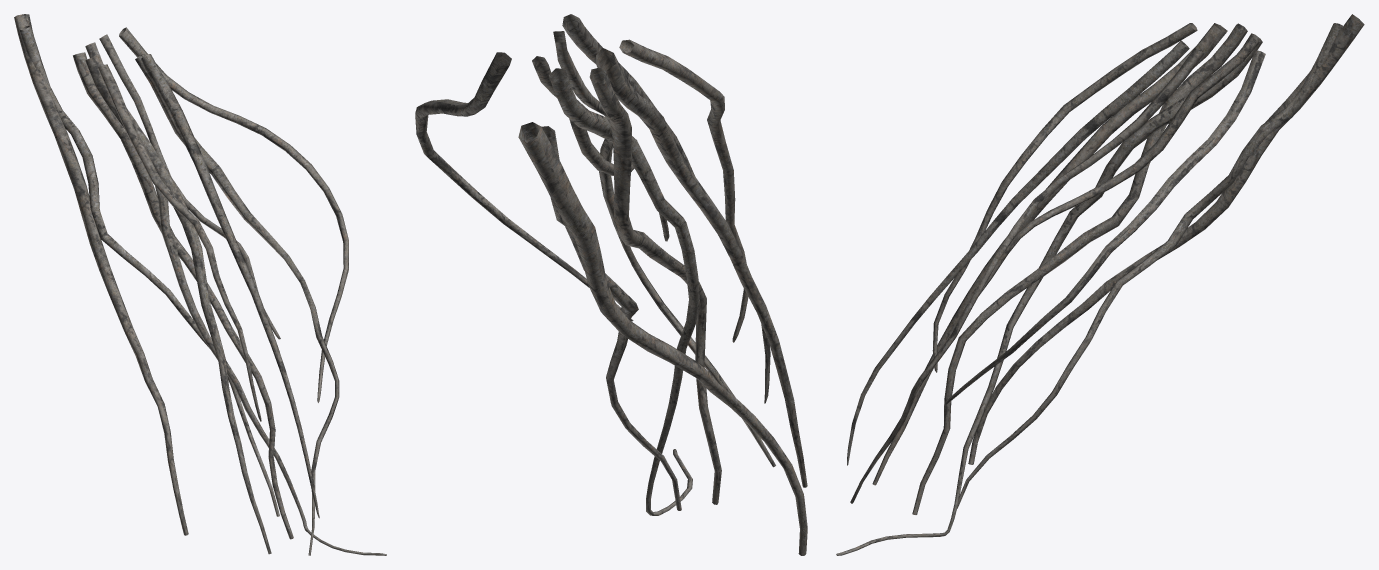
The model's file is tree01_01.fbx.
3 views of the same model, side by side, from view 1: azimuth 30°, elevation 25°; view 2: azimuth 150°, elevation 25°; view 3: azimuth 270°, elevation 25° (orthographic). The views are drawn at different scales.
Parts seen in each view (by area): view 1: tree01_01; view 2: tree01_01; view 3: tree01_01.
Part boxes in pixels (bbox=[...]): tree01_01: bbox=[14, 14, 386, 555]; tree01_01: bbox=[415, 14, 807, 555]; tree01_01: bbox=[836, 14, 1364, 555].
Bounding box in the file's own units: 1019 × 1966 × 2007.
